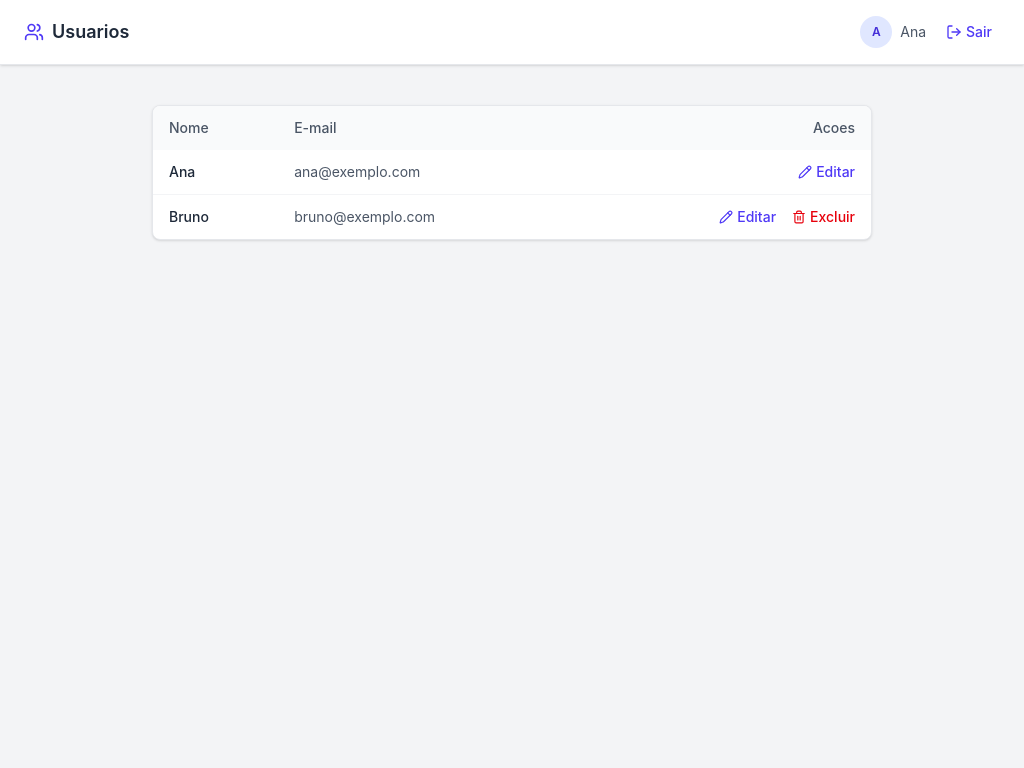
Usuarios › exclui um usuario apos confirmar no modal e dispara o toast
Step 1. Click the button "Excluir" → (824, 217), box [792,207,855,227]
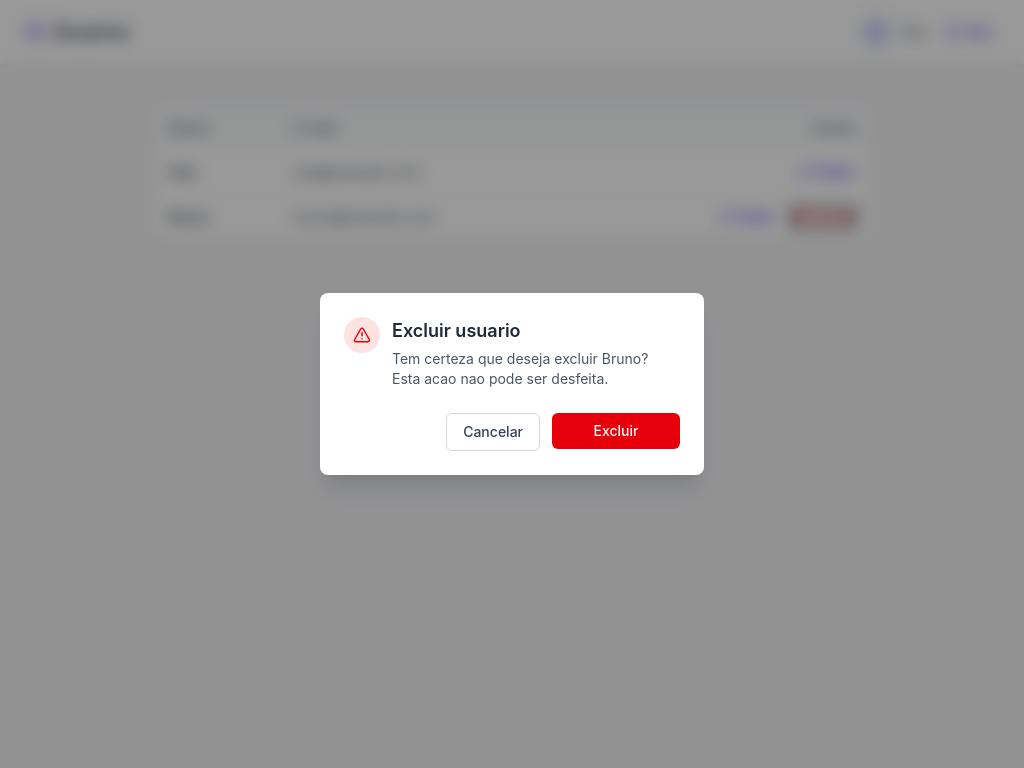
Expected: the text "Bruno" is shown, [392,350,648,387]
Step 2. Click the button "Excluir" → (616, 431), box [552,413,680,449]
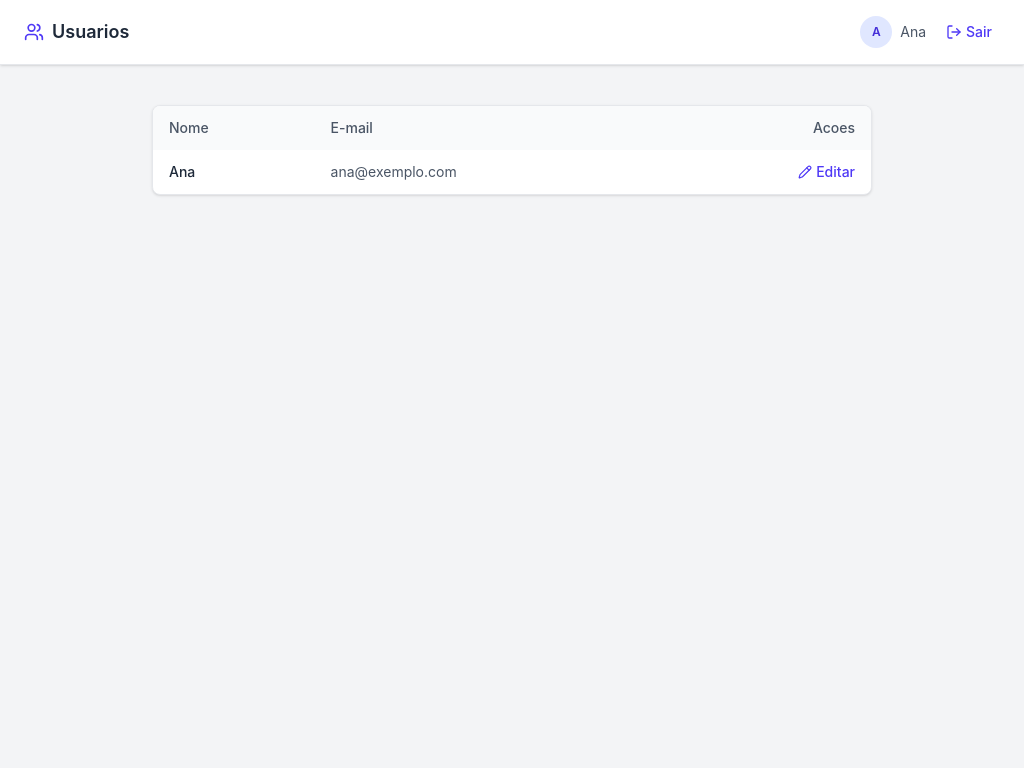
Expected: the text "Bruno" is gone
